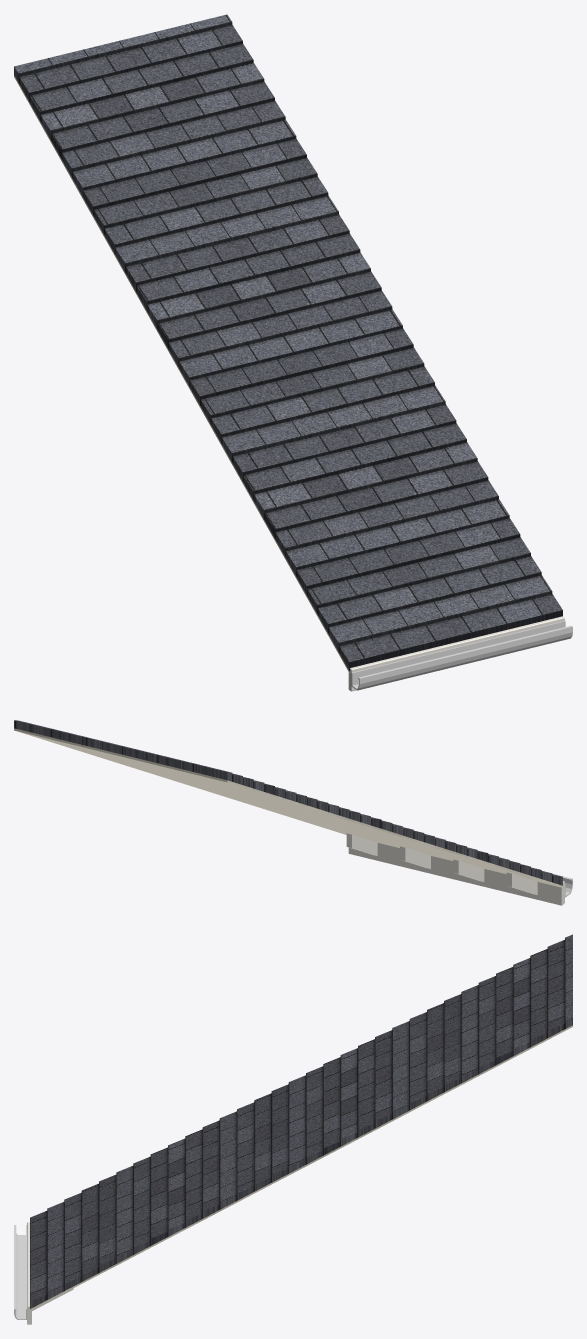
Rendered from roof_store.glb.
The picture shows the model from 3 angles, top to bottom: view 1: azimuth 30°, elevation 25°; view 2: azimuth 150°, elevation 25°; view 3: azimuth 270°, elevation 25°; orthographic projection. The views are drawn at different scales.
Visible parts, largest first — view 1: roof_store_shingles, roof_store_gutter, roof_store_trim, roof_store_plaster; view 2: roof_store_plaster, roof_store_shingles, roof_store_trim; view 3: roof_store_shingles, roof_store_plaster, roof_store_gutter.
Boxes of the visible parts, <box> form: roof_store_shingles: <box>14,14,562,671</box>; roof_store_gutter: <box>351,621,572,690</box>; roof_store_trim: <box>348,616,564,691</box>; roof_store_plaster: <box>14,75,349,673</box>; roof_store_plaster: <box>14,728,562,887</box>; roof_store_shingles: <box>14,720,562,885</box>; roof_store_trim: <box>346,833,564,905</box>; roof_store_shingles: <box>30,934,572,1308</box>; roof_store_plaster: <box>30,1025,572,1310</box>; roof_store_gutter: <box>14,1225,26,1319</box>.
Size of the model in its own units: 2 by 3.39 by 5.61.
4 materials, 2 textured.
